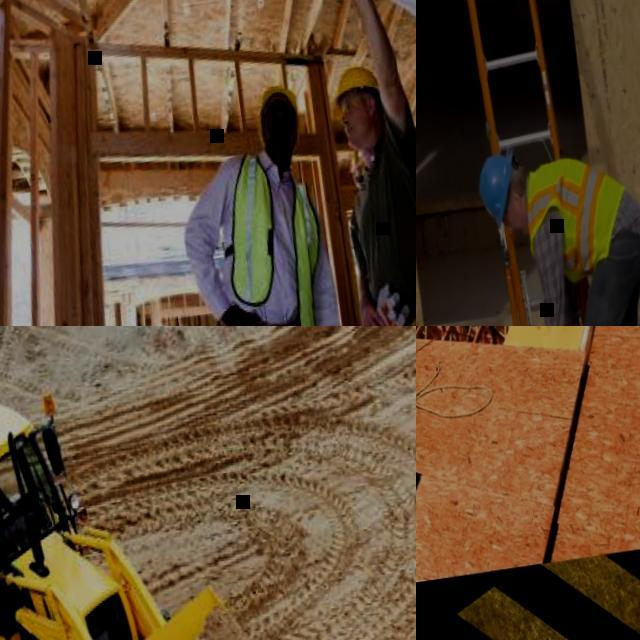Weapon: (136, 32, 407, 326), (413, 40, 634, 328)
objects: (458, 95, 526, 262), (323, 60, 402, 160), (235, 70, 312, 152)
